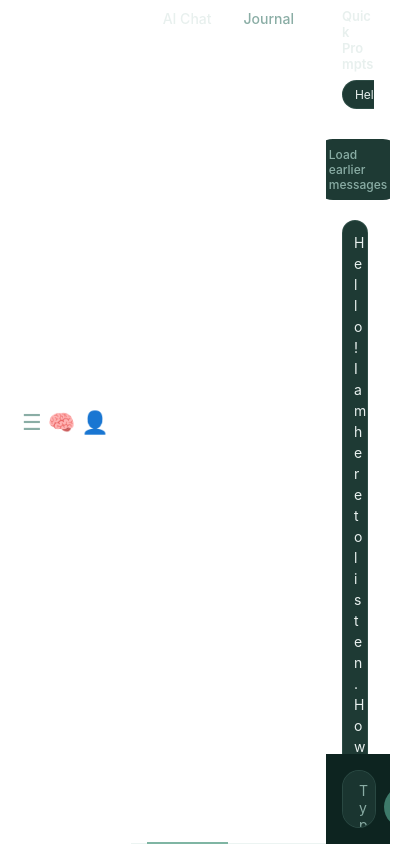
Test case: Integration: Dashboard Navigation & Modals › can toggle between Chat and Journal tabs
Expected: the text box with placeholder "Type your message..." is shown, top-left (342, 770), bottom-right (376, 828)
Click the text "Journal".
click(269, 18)  # box top-left (244, 10), bottom-right (294, 27)
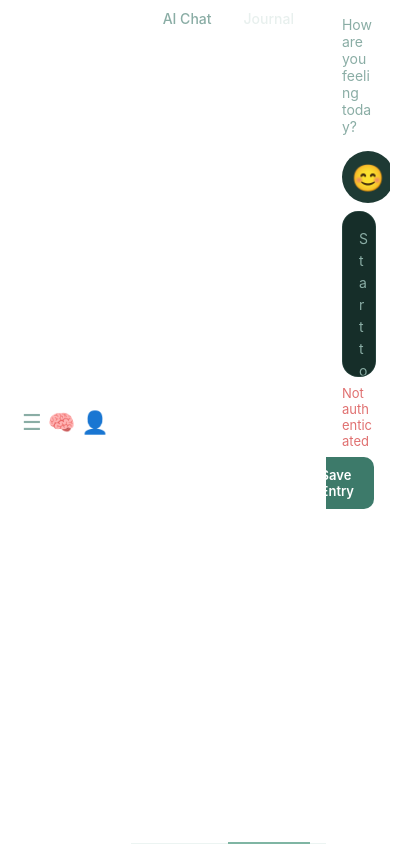
Expected: the field with placeholder "Type your message..." is not shown
Now the text box with placeholder "Start today's entry..." is shown, box top-left (342, 211), bottom-right (376, 377)
